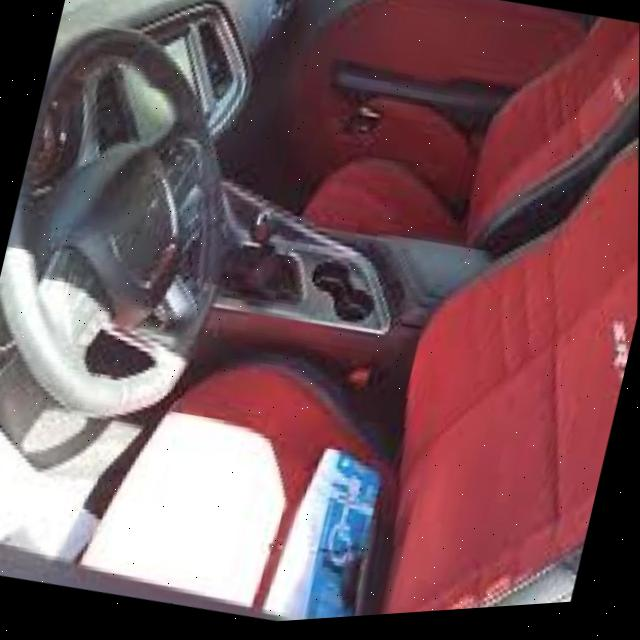symbol_of_access: (321, 513, 363, 575)
